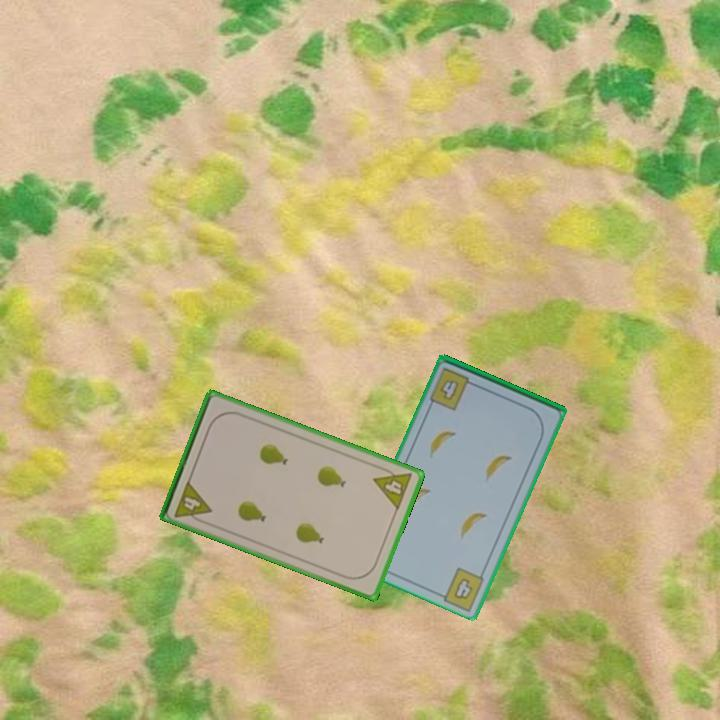4b: (426, 364, 480, 413), (450, 575, 476, 603)
4p: (370, 462, 415, 513), (171, 477, 214, 527)
